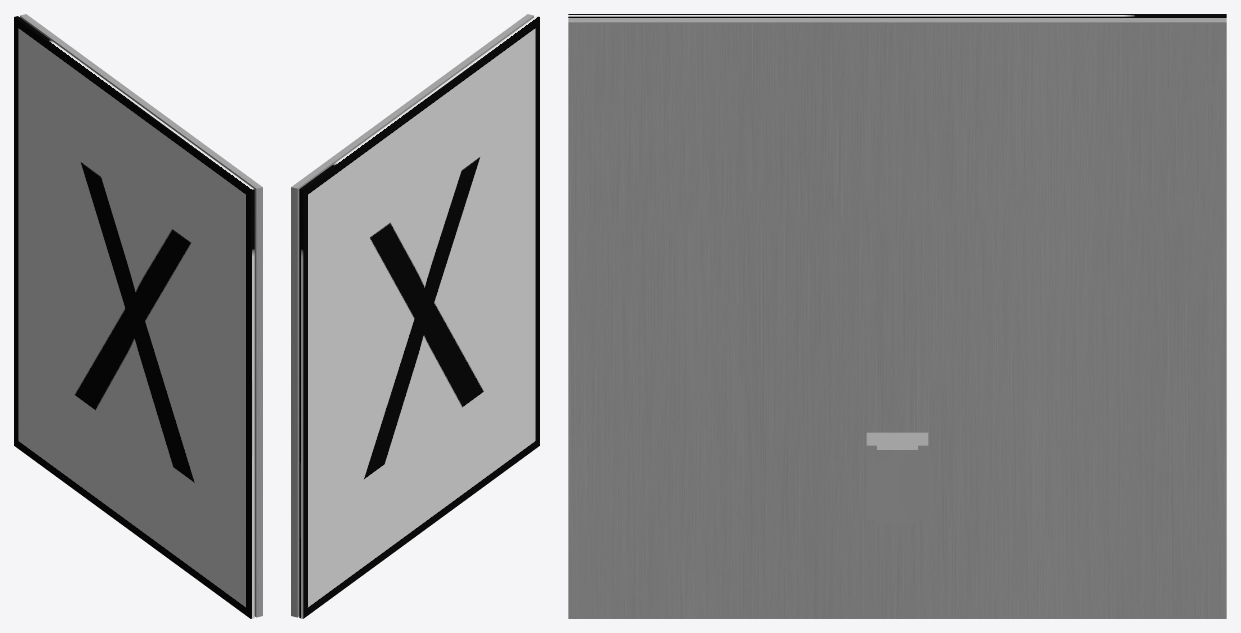
The model's file is route_x.obj.
3 views of the same model, side by side, from view 1: azimuth 30°, elevation 25°; view 2: azimuth 150°, elevation 25°; view 3: azimuth 270°, elevation 25° (orthographic). The views are drawn at different scales.
Visible parts, largest first — view 1: cube; view 2: cube; view 3: cube.
Boxes of the visible parts, x1,y1,x2,y2 form: cube: [14, 14, 262, 618]; cube: [291, 14, 539, 618]; cube: [568, 14, 1226, 618].
Bounding box in the file's own units: 0.0922 × 1 × 1.
Materials: 2 (2 with a texture image).
